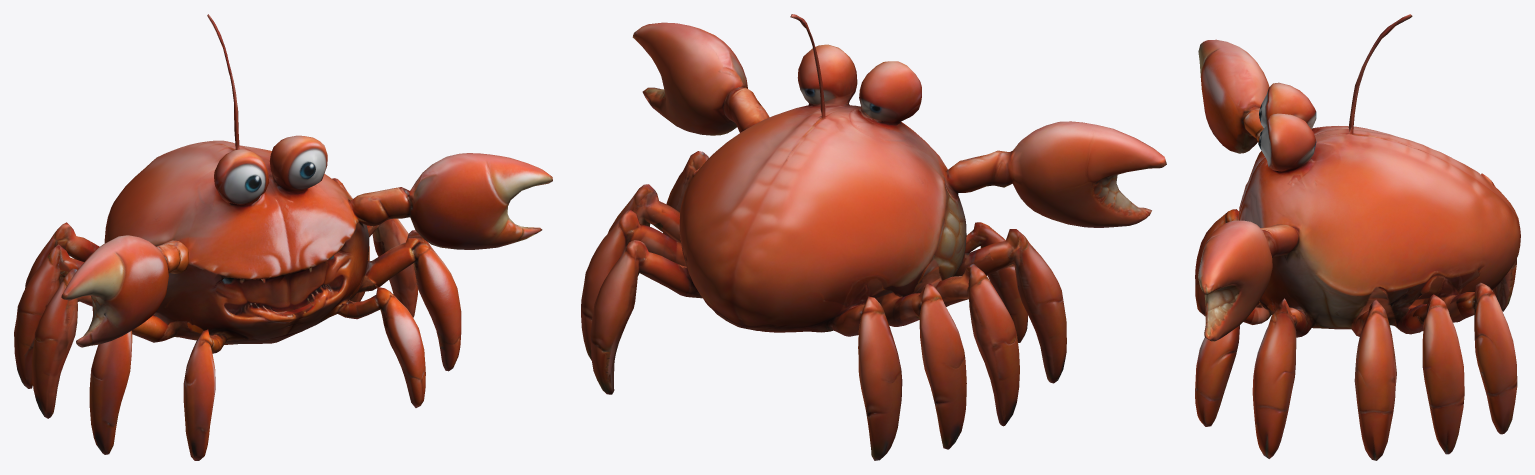
File: crab.glb
3 renders of one model, left to right at view 1: azimuth 30°, elevation 25°; view 2: azimuth 150°, elevation 25°; view 3: azimuth 270°, elevation 25°, orthographic. The views are drawn at different scales.
Size of the model in its own units: 2.01 by 1.37 by 1.12.
1 material, 1 textured.
